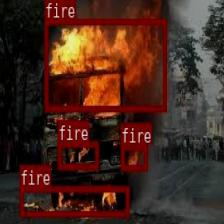fire: (44, 18, 166, 111), (19, 185, 128, 216), (57, 141, 98, 168), (120, 144, 147, 170)
